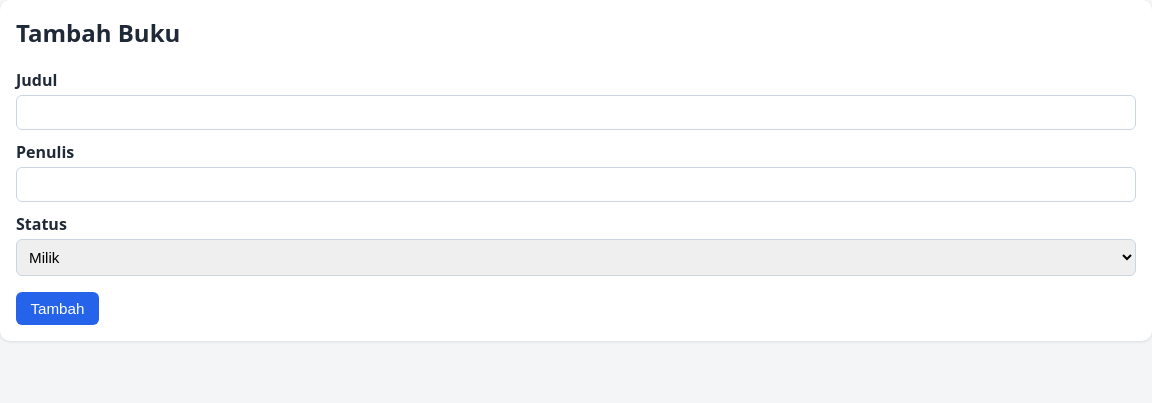
Scenario: BookForm › menampilkan error & tidak submit jika kolom kosong
The image size is (1152, 403).
Click the button "Tambah": [57, 309] box [16,292,99,325]
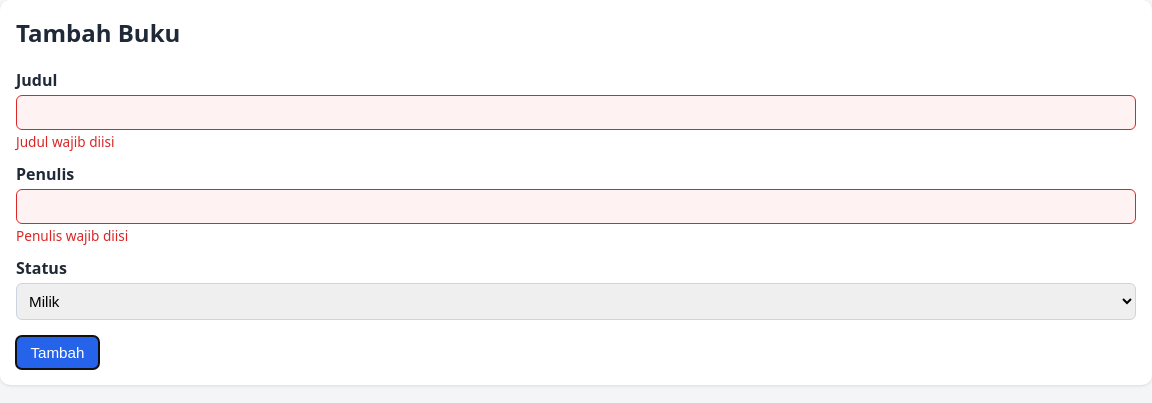
Result: the text "Judul wajib diisi" is shown at [16,132,114,151]
Result: the text "Penulis wajib diisi" is shown at [16,226,128,245]
